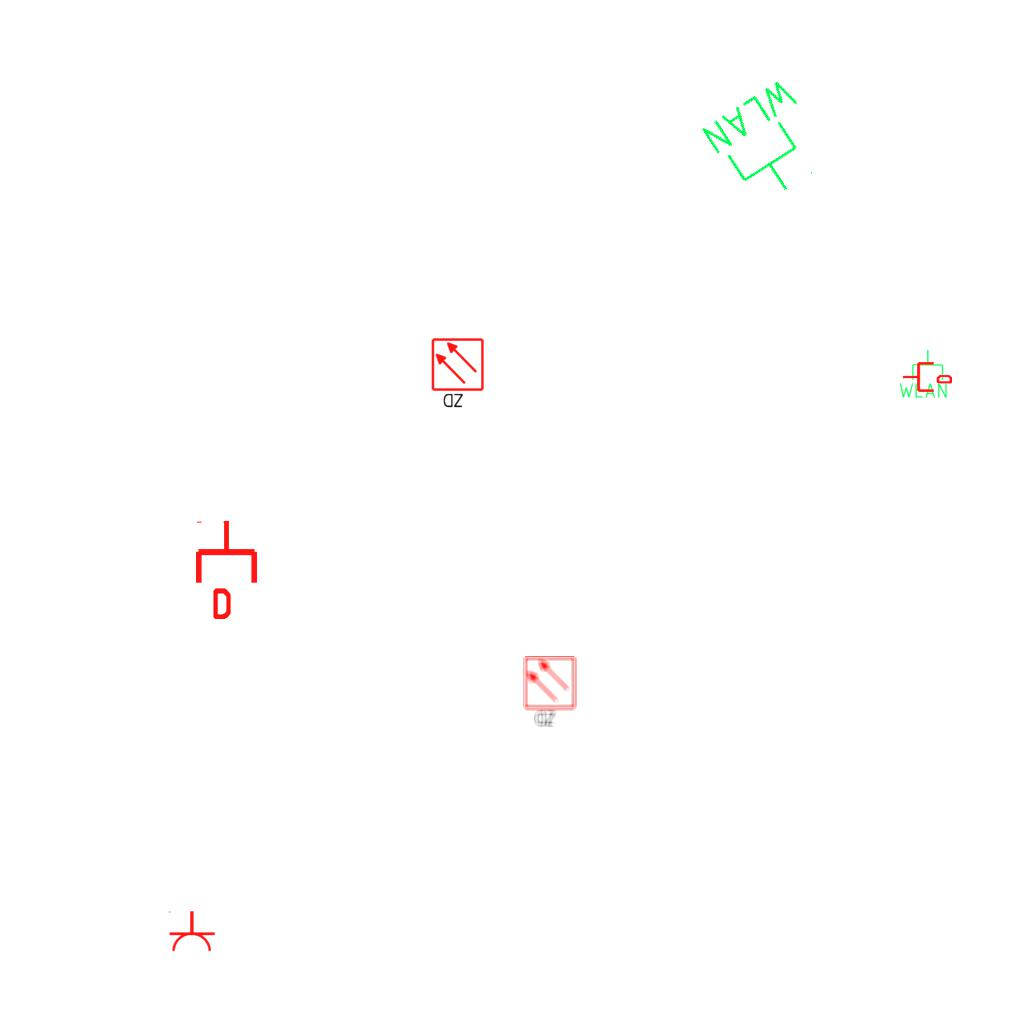Datenanschluss_einfach: (192, 519, 261, 619), (902, 360, 952, 394)
Schukosteckdose_einfach: (166, 910, 216, 953)
WLAN: (695, 71, 841, 216), (897, 348, 949, 400)
ZD_Melder_in_Zwischendecke_mit_Revisionsoeffnung_mind_40_x_40_cm: (522, 655, 579, 729), (430, 337, 487, 411)
